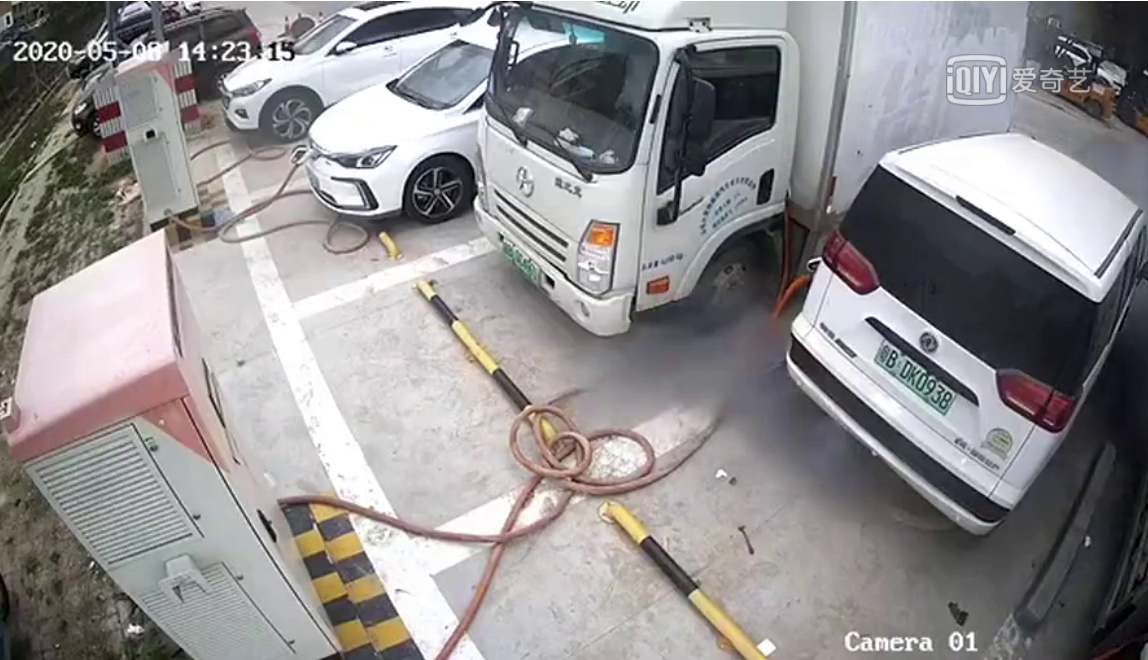smoke: (600, 312, 850, 482)
